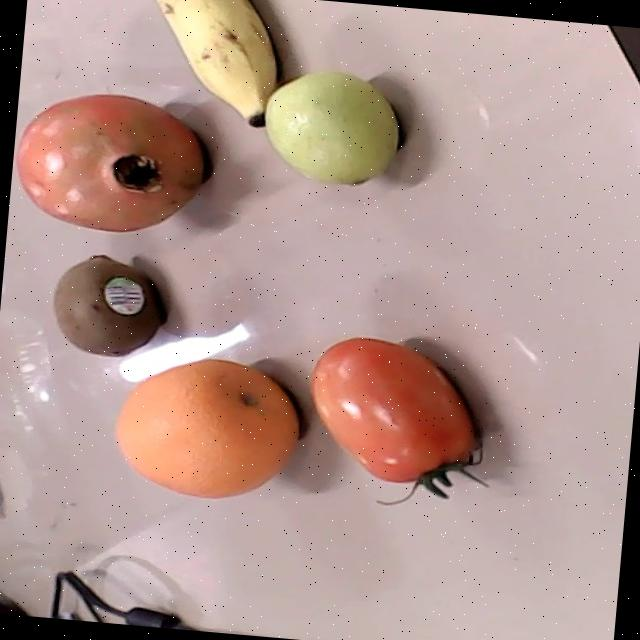kiwi: (53, 252, 161, 356)
lemon: (264, 69, 399, 184)
orange: (116, 357, 299, 497)
pomegranate: (17, 92, 203, 231)
tomato: (311, 337, 489, 504)
